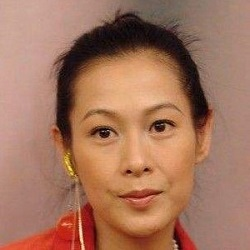unmask: (64, 58, 198, 238)
